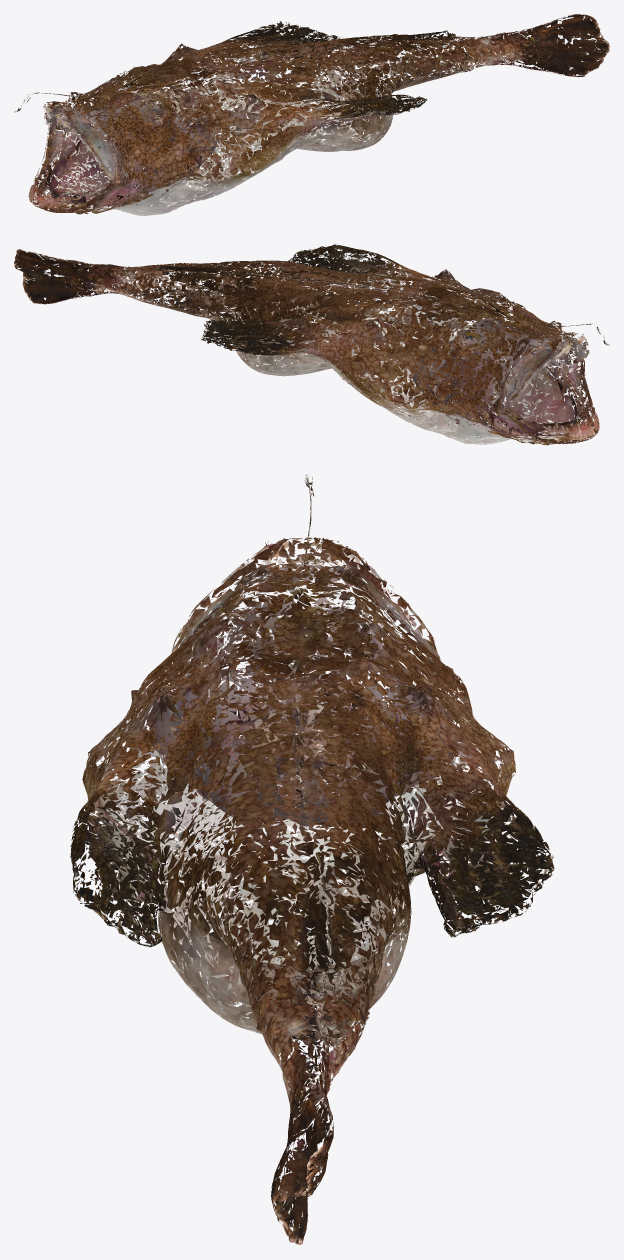
File: anglerfish.glb
3 views of the same model, one above another, from view 1: azimuth 30°, elevation 25°; view 2: azimuth 150°, elevation 25°; view 3: azimuth 270°, elevation 25° (orthographic). The views are drawn at different scales.
Parts seen in each view (by area): view 1: Object_6, Object_14, Object_22; view 2: Object_6, Object_14, Object_22; view 3: Object_6, Object_14, Object_22.
Part boxes in pixels (<box>): Object_6: <box>25,14,602,213</box>; Object_14: <box>17,14,609,214</box>; Object_22: <box>14,14,608,215</box>; Object_6: <box>17,244,599,444</box>; Object_14: <box>14,247,605,445</box>; Object_22: <box>14,244,609,444</box>; Object_6: <box>70,474,552,1244</box>; Object_14: <box>70,475,553,1244</box>; Object_22: <box>70,477,554,1242</box>.
Bounding box in the file's own units: 19.77 × 4.74 × 7.08.
3 materials, 3 textured.
